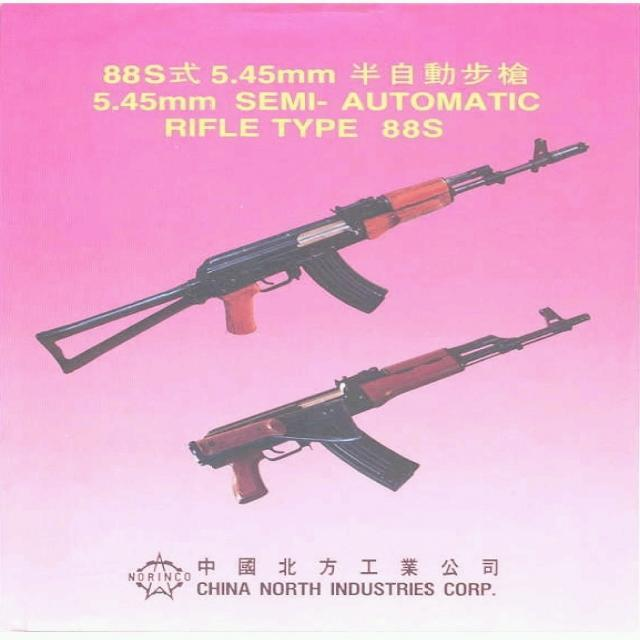ak: (28, 136, 607, 374), (180, 310, 594, 510)
